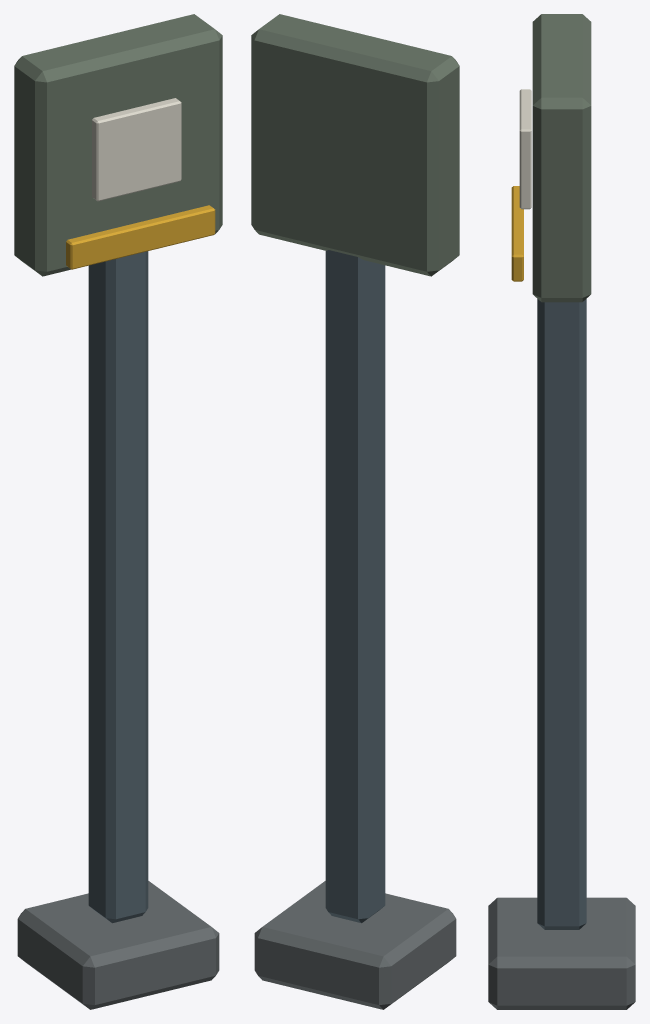
The model's file is PRP_CITY_025_bus_stop_post.glb.
3 views of the same model, side by side, from view 1: azimuth 30°, elevation 25°; view 2: azimuth 150°, elevation 25°; view 3: azimuth 270°, elevation 25° (orthographic).
Visible parts, largest first — view 1: PRP_CITY_025_bus_stop_post_RenderMesh; view 2: PRP_CITY_025_bus_stop_post_RenderMesh; view 3: PRP_CITY_025_bus_stop_post_RenderMesh.
Part boxes in pixels (x1=…): PRP_CITY_025_bus_stop_post_RenderMesh: x1=14, y1=14, x2=222, y2=1009; PRP_CITY_025_bus_stop_post_RenderMesh: x1=251, y1=14, x2=459, y2=1009; PRP_CITY_025_bus_stop_post_RenderMesh: x1=488, y1=14, x2=635, y2=1009.
Bounding box in the file's own units: 0.44 × 2.08 × 0.3.
